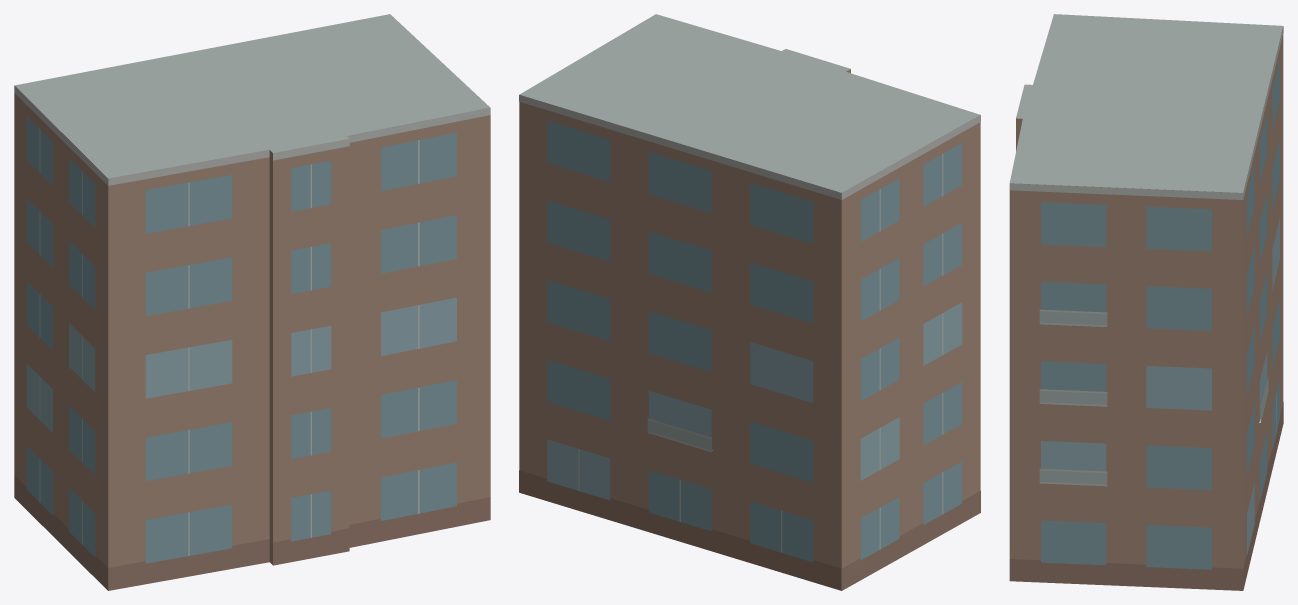
The model's file is survey-upis-32753339.glb.
3 renders of one model, left to right at view 1: azimuth 30°, elevation 25°; view 2: azimuth 150°, elevation 25°; view 3: azimuth 270°, elevation 25°, orthographic. The views are drawn at different scales.
Parts seen in each view (by area): view 1: survey-upis-32753339.tmp; view 2: survey-upis-32753339.tmp; view 3: survey-upis-32753339.tmp.
Boxes of the visible parts, x1=… form: survey-upis-32753339.tmp: x1=14, y1=14, x2=490, y2=590; survey-upis-32753339.tmp: x1=519, y1=14, x2=980, y2=590; survey-upis-32753339.tmp: x1=1009, y1=14, x2=1283, y2=590.
Bounding box in the file's own units: 13.23 × 13.7 × 8.55.
